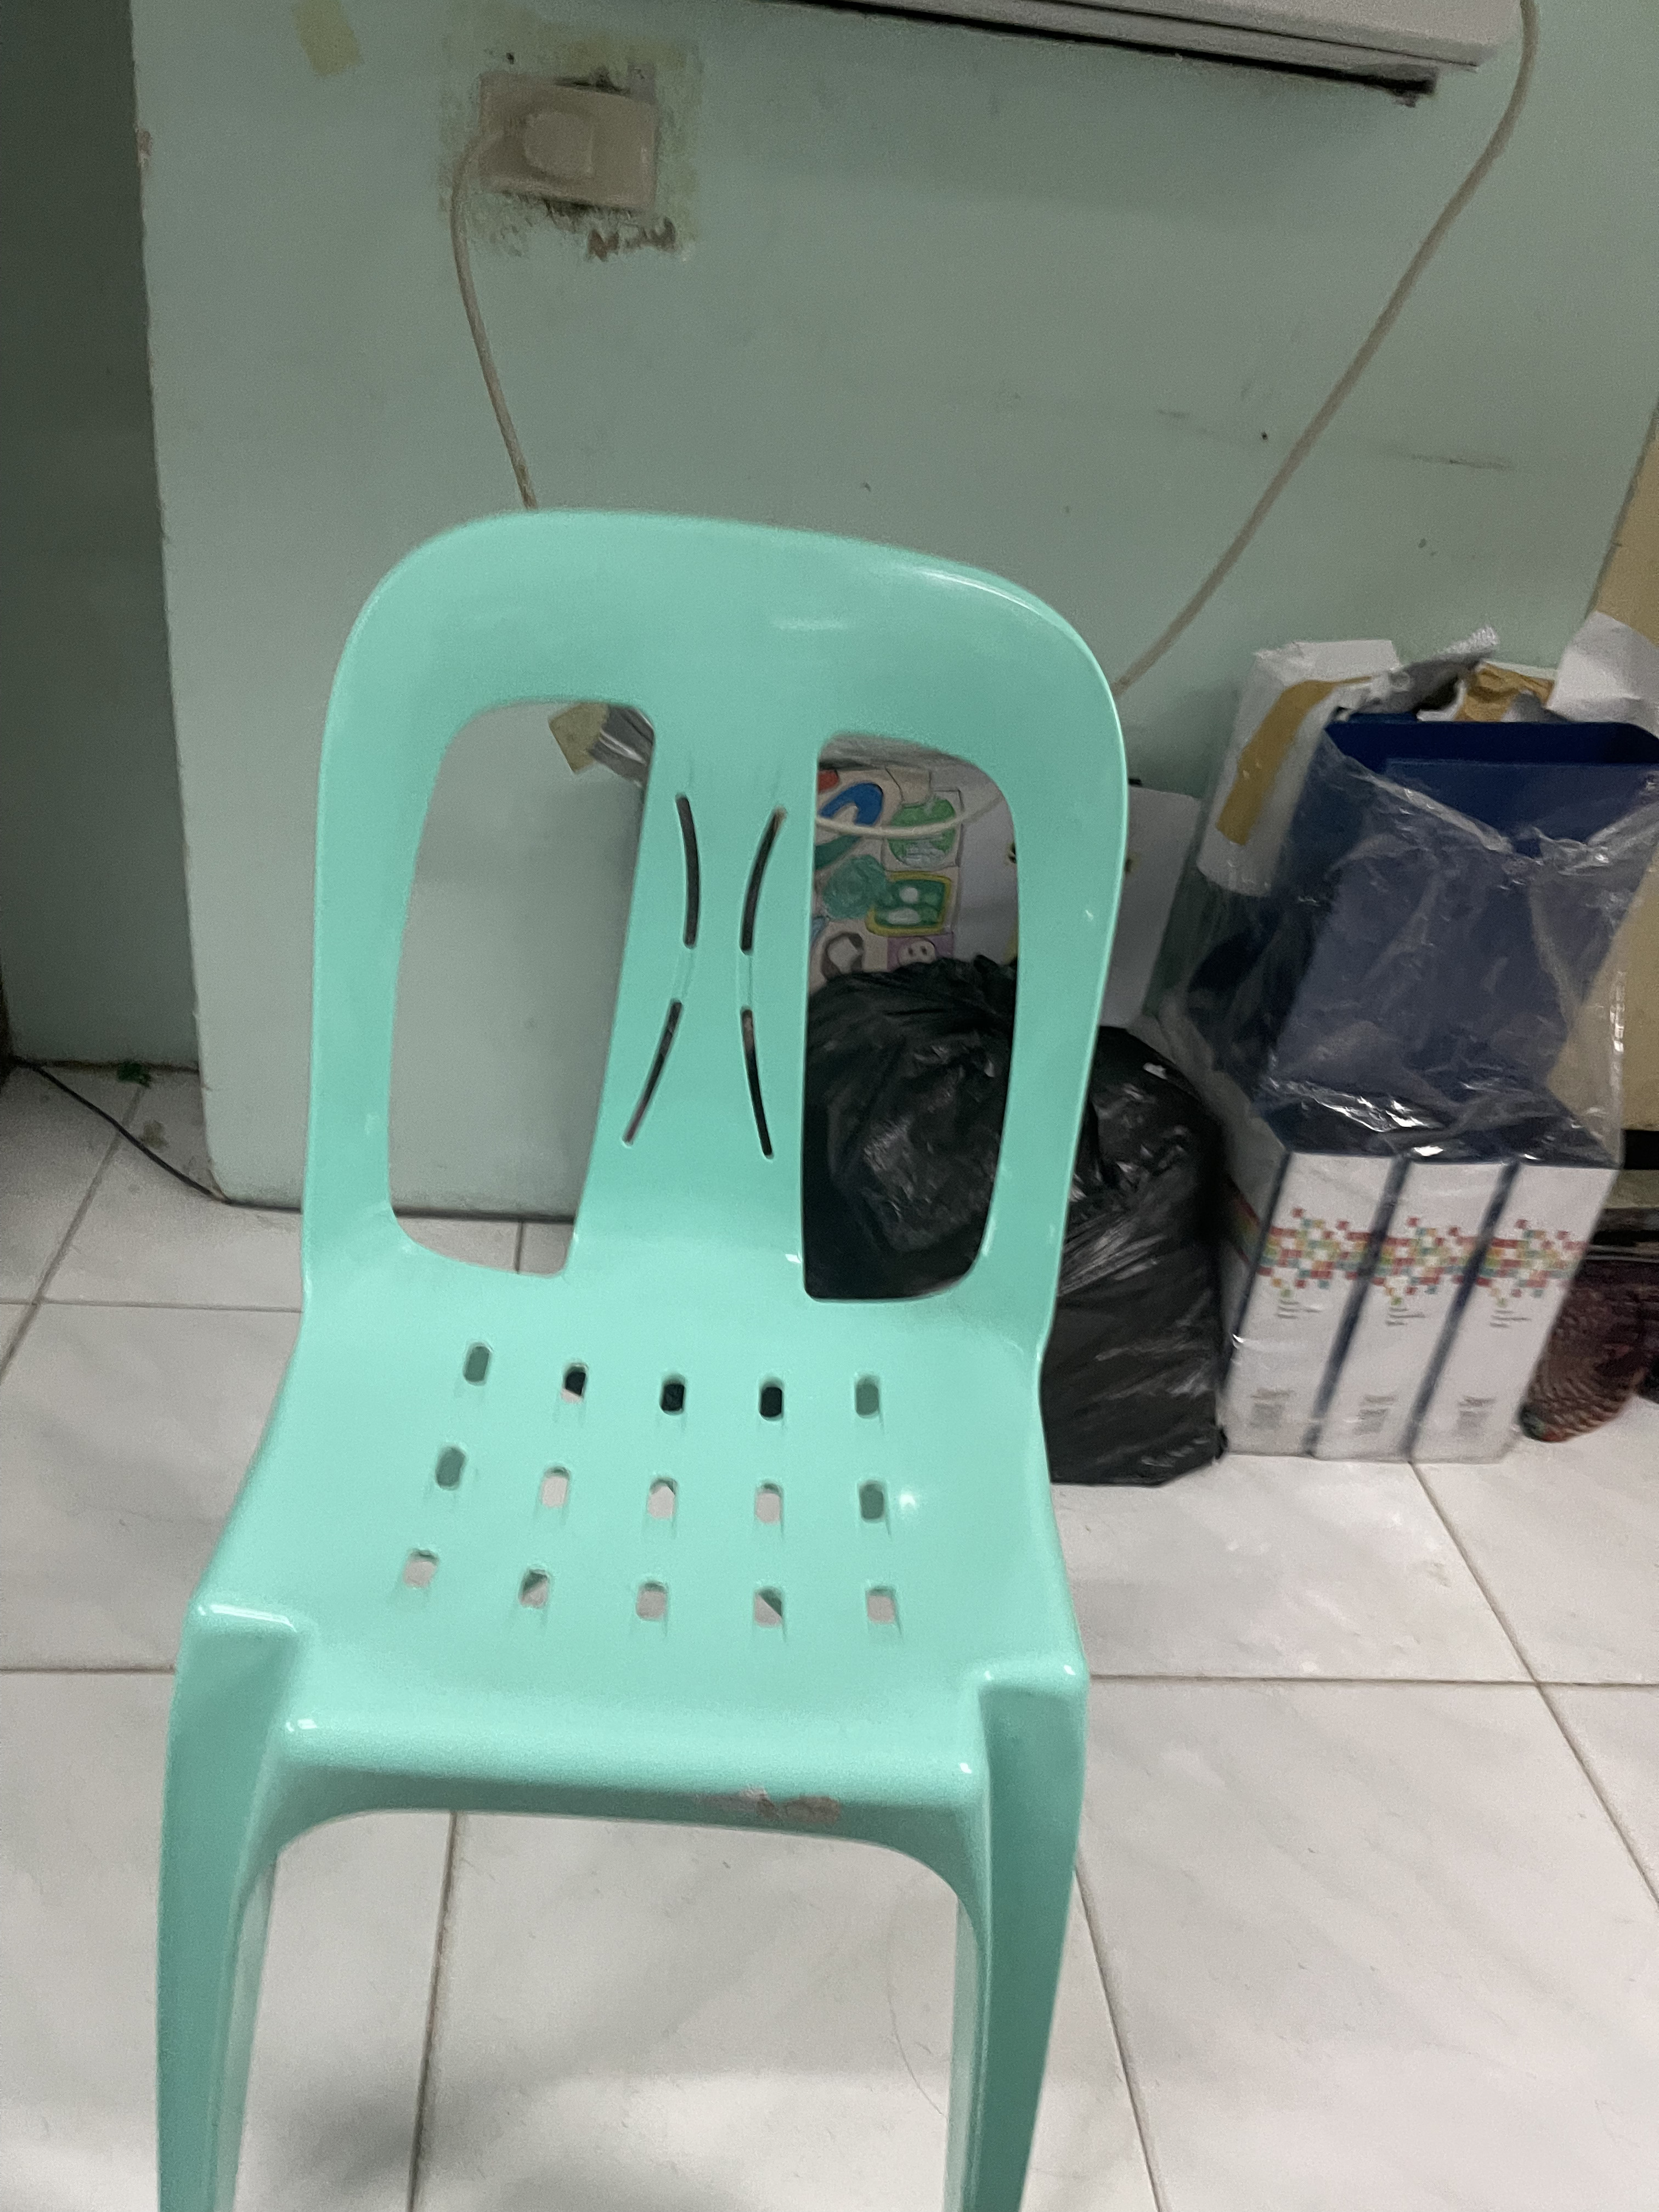chair2: (145, 493, 1131, 2212)
